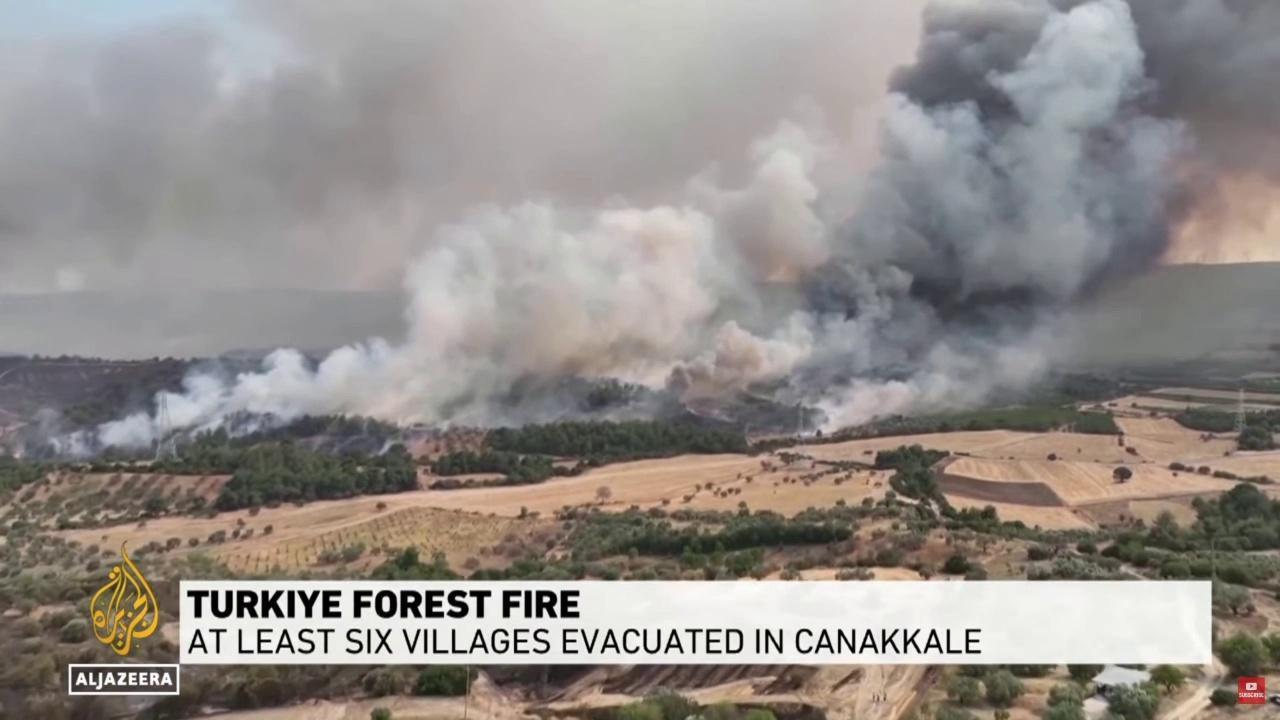smoke: (0, 0, 1280, 459)
